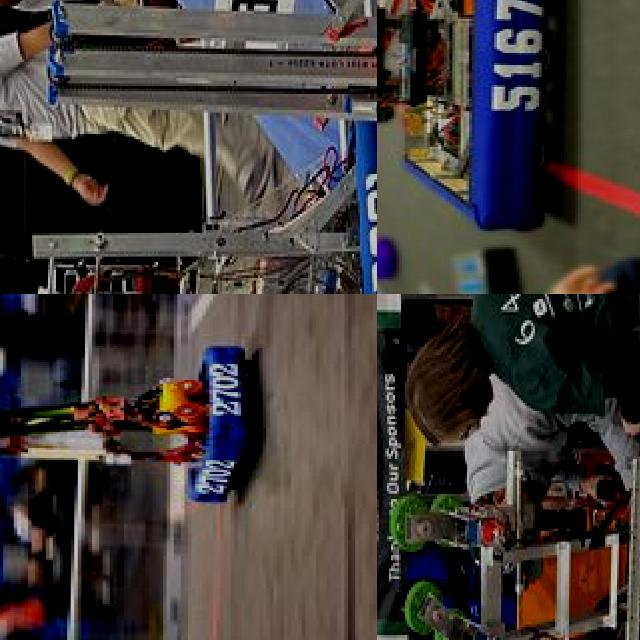FRC-Robots: (12, 108, 377, 294), (0, 309, 275, 532), (0, 0, 377, 153), (417, 403, 640, 640), (377, 0, 613, 206)
